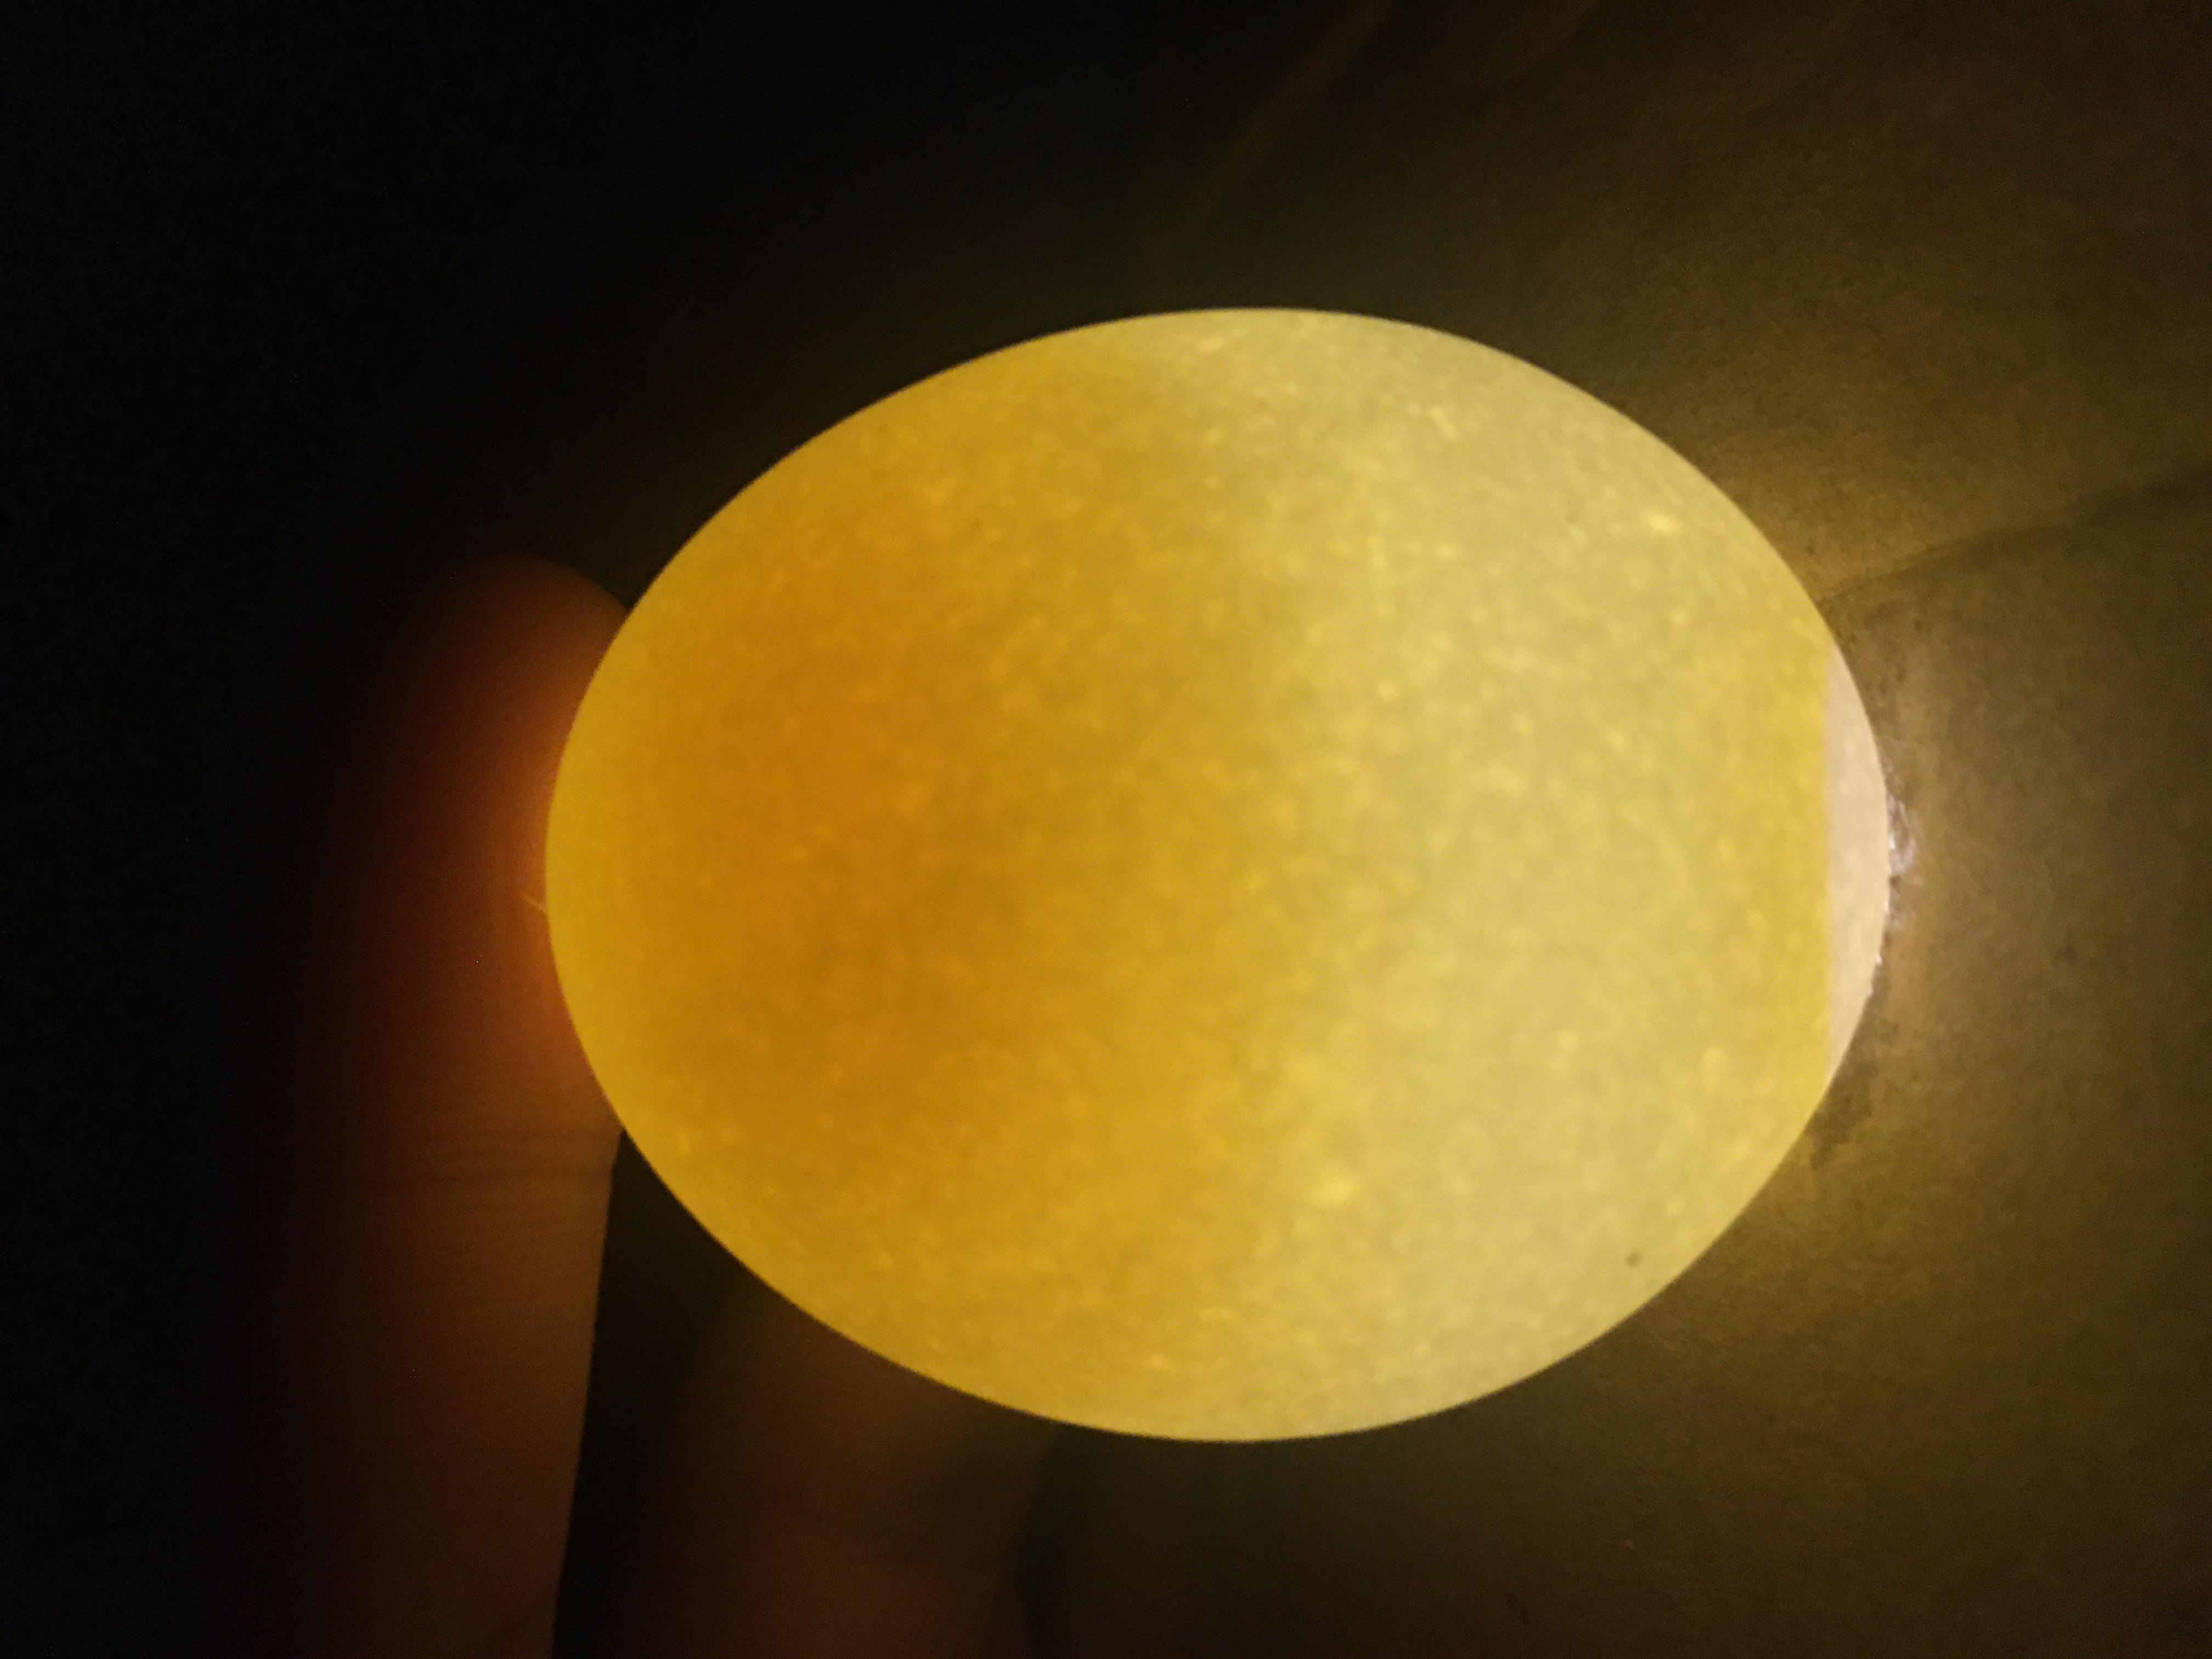AA - Premium: (273, 380, 1829, 1439)
